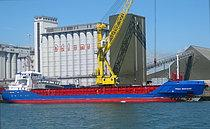Ship: (1, 69, 210, 108)
